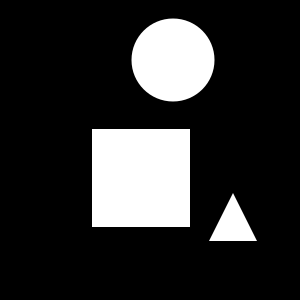circle: (92, 129, 190, 227)
rectangle: (132, 19, 214, 102)
triangle: (209, 193, 257, 241)
